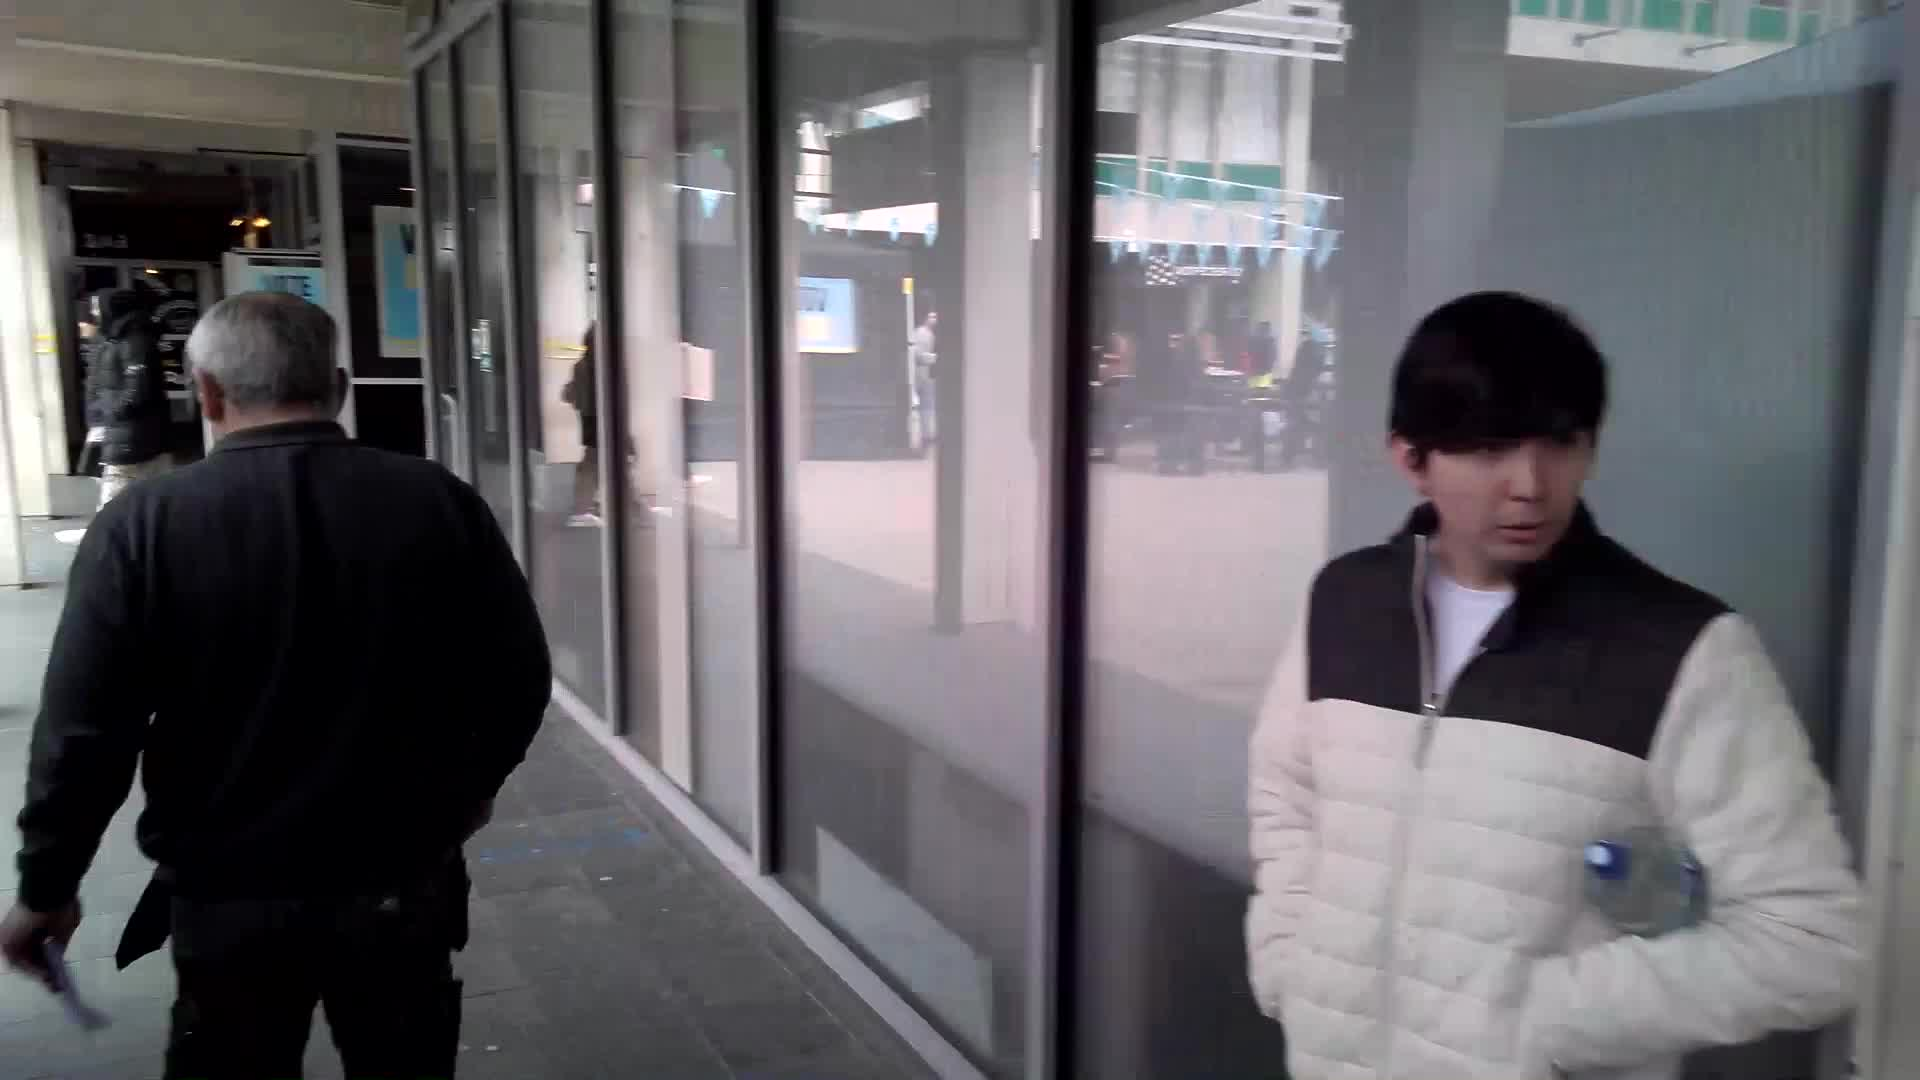Person: (1298, 295, 1754, 1080), (138, 290, 476, 1080)
